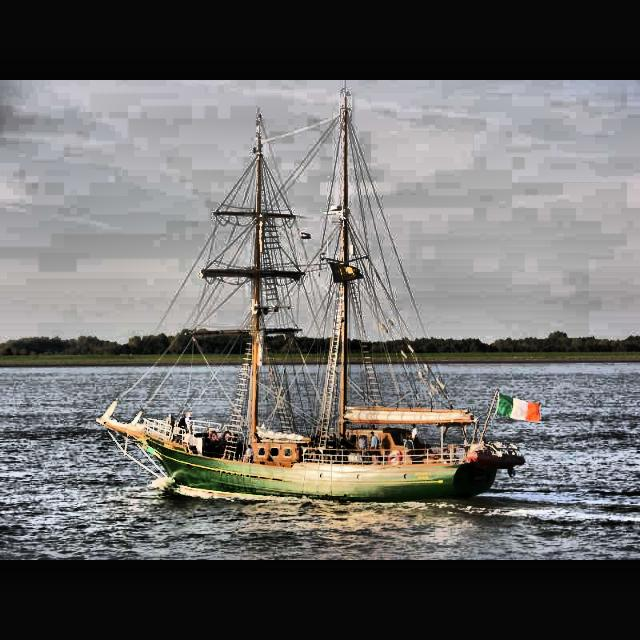sailing_vessel: (95, 88, 528, 504)
